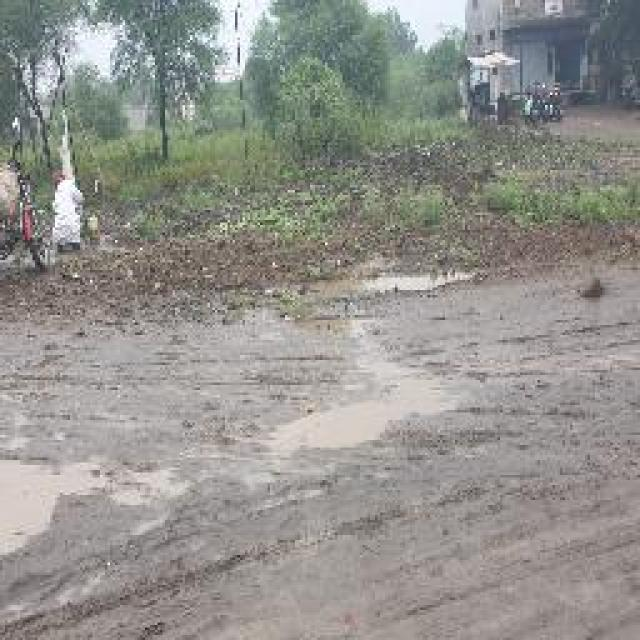stagnation: (7, 442, 185, 580), (293, 328, 457, 458), (308, 254, 470, 290)
